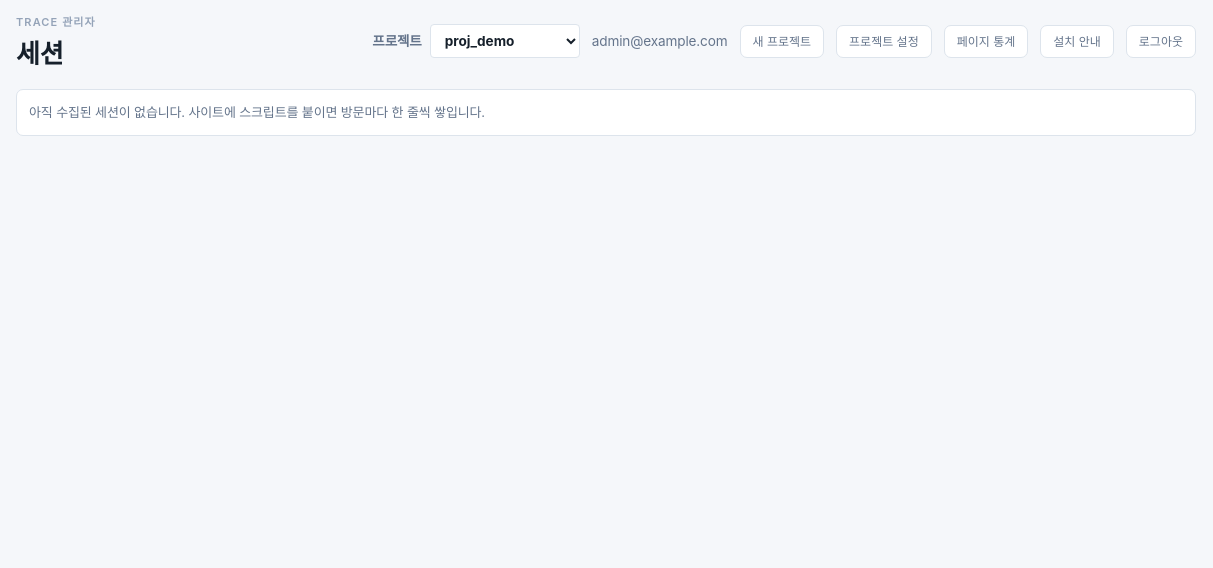
Test: App 프로젝트 설정 › 대시보드에서 프로젝트 설정 화면으로 이동한다
What coordinates should you click on to do the following:
click the button "프로젝트 설정"
I would click on:
 (884, 41)
Its box is [836, 25, 932, 58].
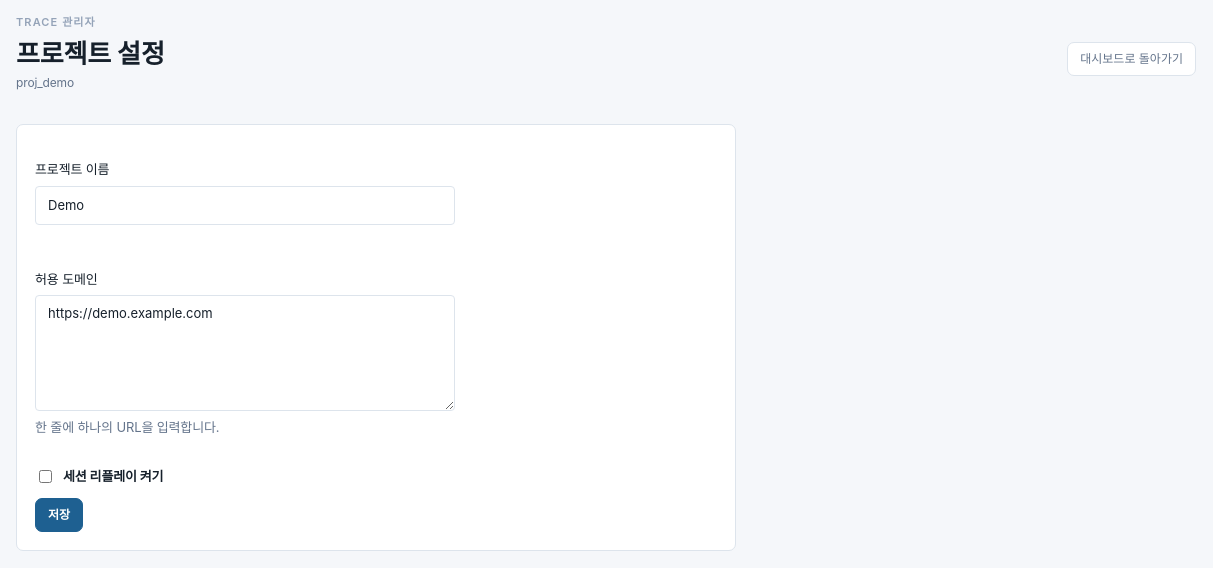
Now the heading "프로젝트 설정" is shown, box [16, 38, 165, 69]
Now the field labelled "프로젝트 이름" holds "Demo", box [35, 186, 455, 225]
